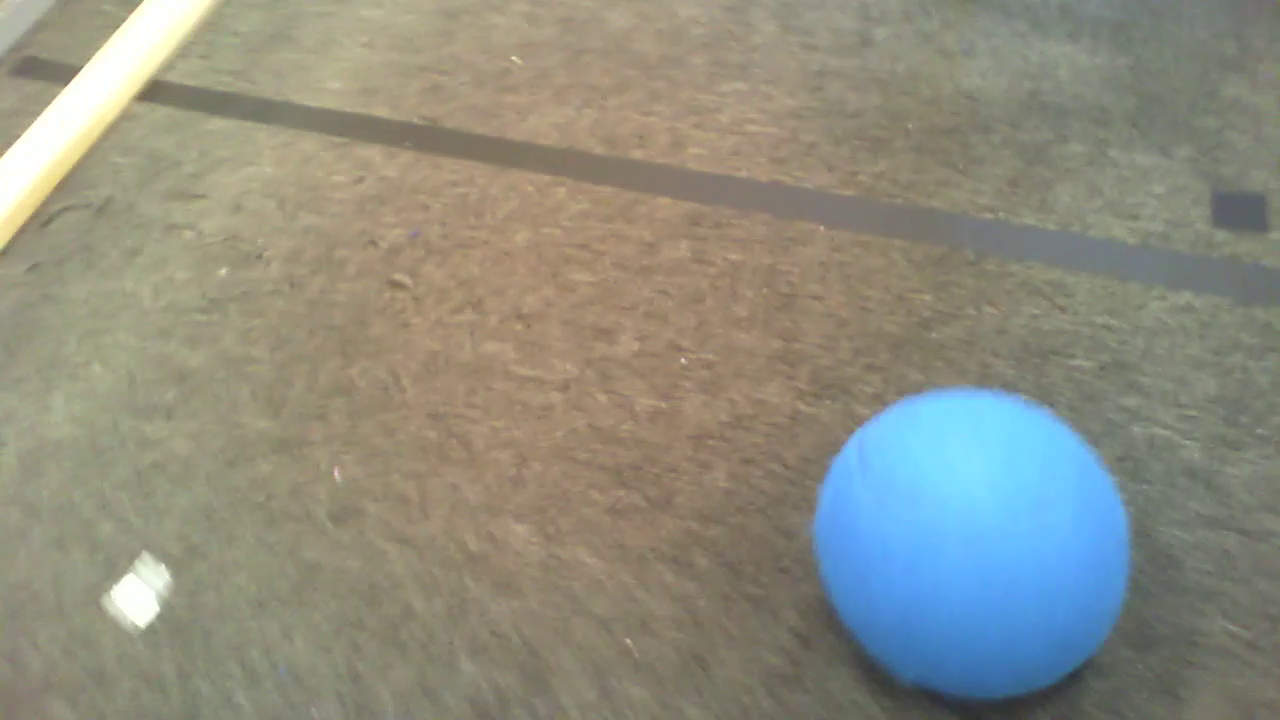blue_cargo: (813, 376, 1126, 710)
